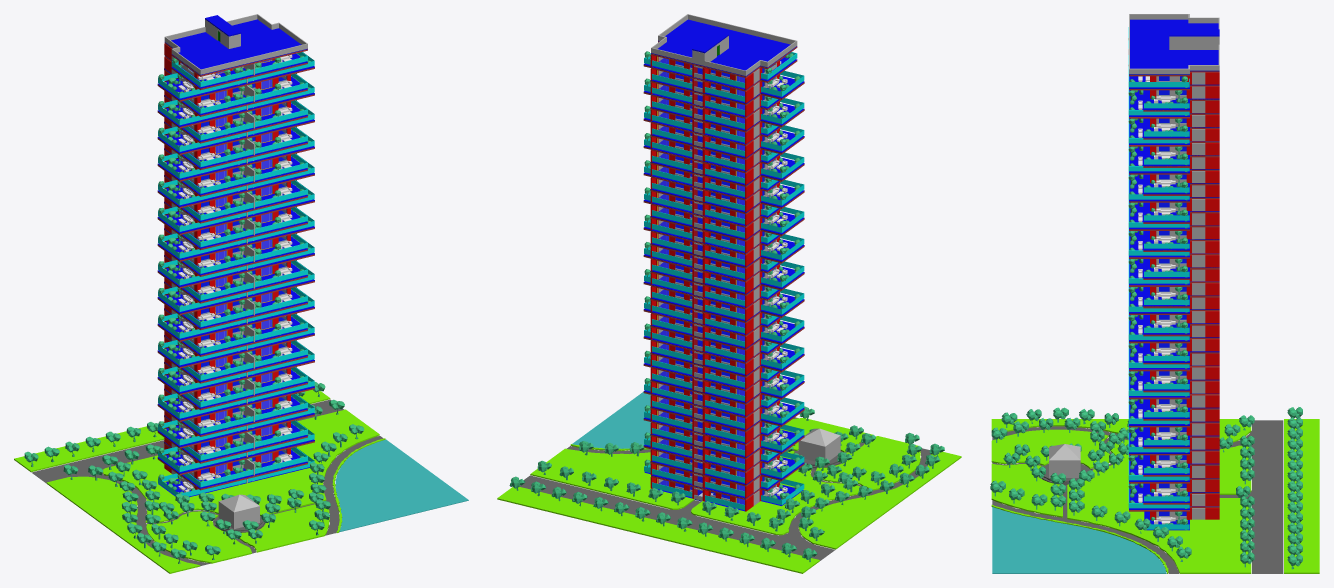
The model's file is residence2.glb.
3 renders of one model, left to right at view 1: azimuth 30°, elevation 25°; view 2: azimuth 150°, elevation 25°; view 3: azimuth 270°, elevation 25°, orthographic. The views are drawn at different scales.
Parts seen in each view (by area): view 1: Hral (×32), Green, Flor (×16), Tree, Lake, Road, Wall (×2); view 2: Green, Flor (×17), Tree, Road, Wall (×2), Lake; view 3: Green, Tree, Lake, Road, Flor (×5), Wall (×2), Hral.
Part boxes in pixels (x1,y1,x2,y2): Hral (×32): [158, 52, 314, 496]; Green: [14, 389, 385, 573]; Flor (×16): [165, 19, 307, 488]; Tree: [24, 382, 364, 563]; Lake: [335, 439, 468, 532]; Road: [31, 399, 383, 565]; Wall (×2): [164, 14, 307, 529]; Green: [497, 418, 961, 573]; Flor (×17): [643, 19, 804, 484]; Tree: [509, 406, 944, 561]; Road: [520, 417, 930, 560]; Wall (×2): [651, 14, 840, 461]; Lake: [572, 392, 650, 448]; Green: [991, 419, 1319, 573]; Tree: [990, 407, 1302, 569]; Lake: [992, 507, 1166, 573]; Road: [992, 420, 1283, 573]; Flor (×5): [1129, 19, 1219, 222]; Wall (×2): [1049, 14, 1219, 477]; Hral: [1128, 27, 1189, 87].
Bounding box in the file's own units: 68.82 × 96.67 × 62.08.
